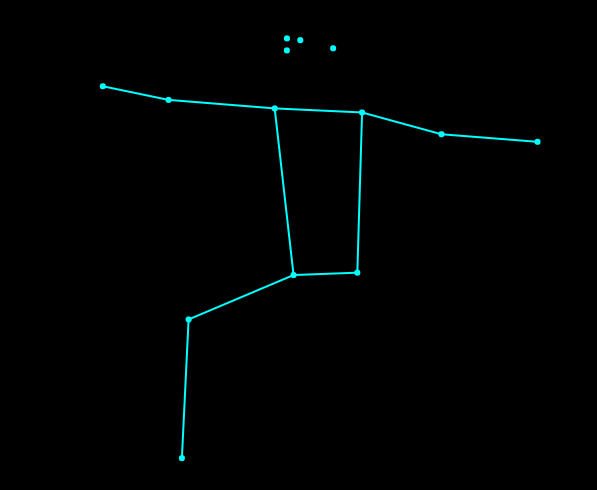warrior_2: (91, 33, 548, 465)
